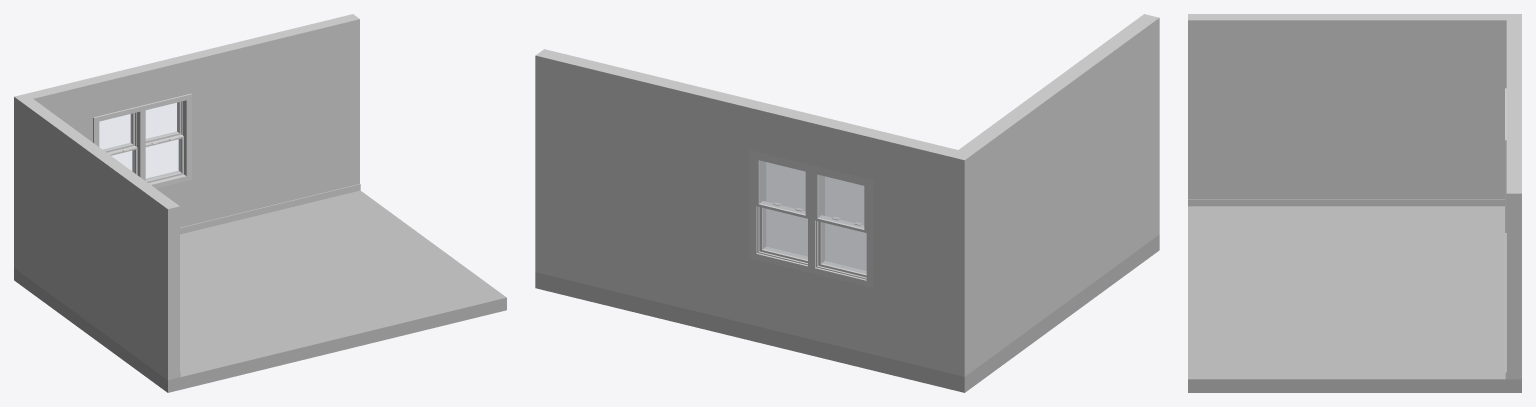
The picture shows the model from 3 angles, left to right: view 1: azimuth 30°, elevation 25°; view 2: azimuth 150°, elevation 25°; view 3: azimuth 270°, elevation 25°; orthographic projection. The views are drawn at different scales.
Size of the model in its own units: 224 by 116 by 176.
